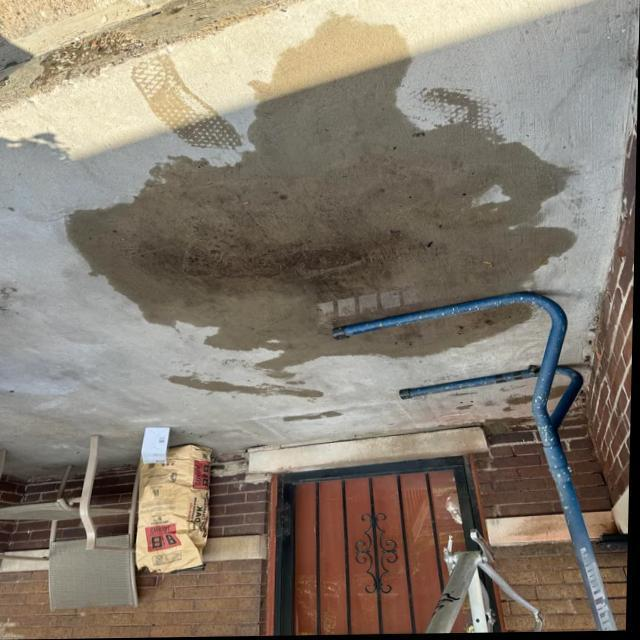water accumulation: (65, 13, 590, 401)
